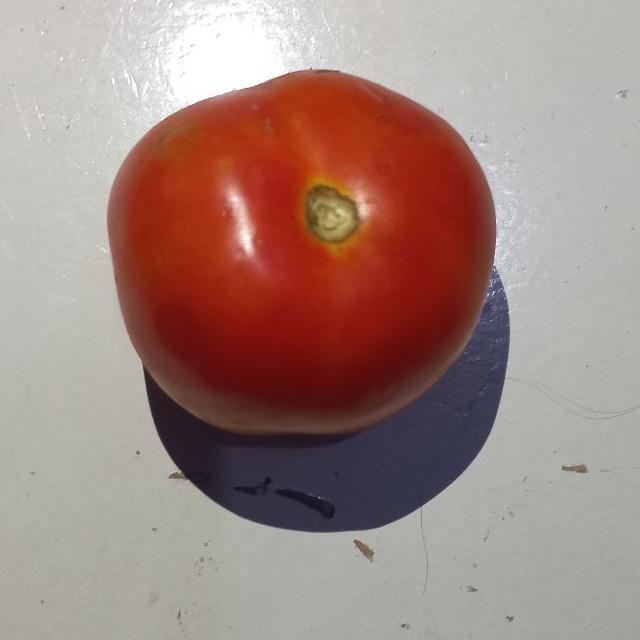tomato: (66, 57, 500, 424)
